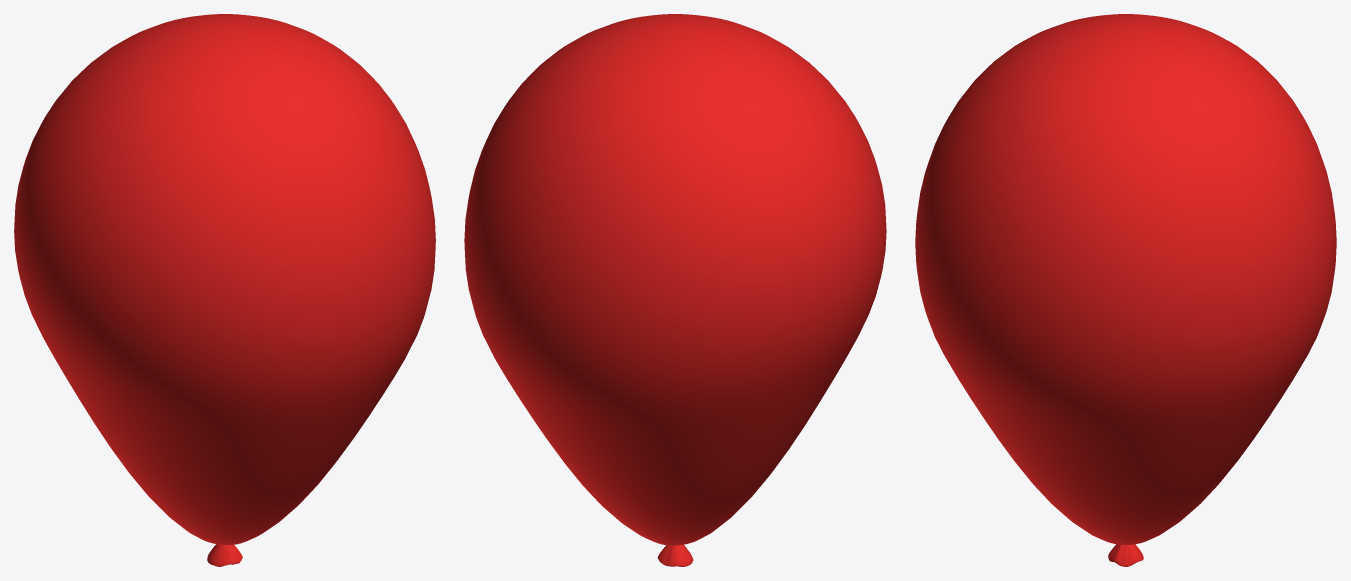
Rendered from BalloonOhneSchnur.fbx.
3 views of the same model, side by side, from view 1: azimuth 30°, elevation 25°; view 2: azimuth 150°, elevation 25°; view 3: azimuth 270°, elevation 25° (orthographic).
Parts seen in each view (by area): view 1: Sphere, Cone; view 2: Sphere, Cone; view 3: Sphere, Cone.
Part boxes in pixels (x1=…): Sphere: x1=14, y1=14, x2=435, y2=545; Cone: x1=207, y1=544, x2=242, y2=566; Sphere: x1=464, y1=14, x2=886, y2=545; Cone: x1=657, y1=544, x2=693, y2=566; Sphere: x1=915, y1=14, x2=1336, y2=544; Cone: x1=1108, y1=544, x2=1143, y2=566.
Bounding box in the file's own units: 197 × 272 × 197.
